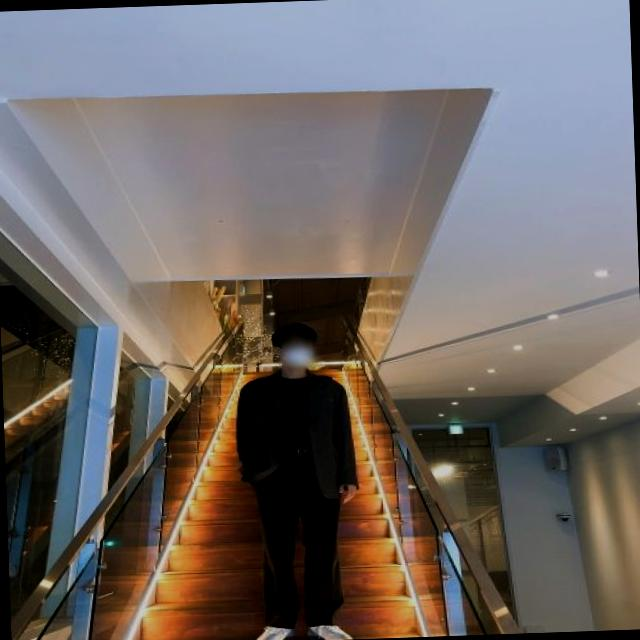blazer: (232, 372, 356, 502)
slacks: (254, 442, 346, 628)
